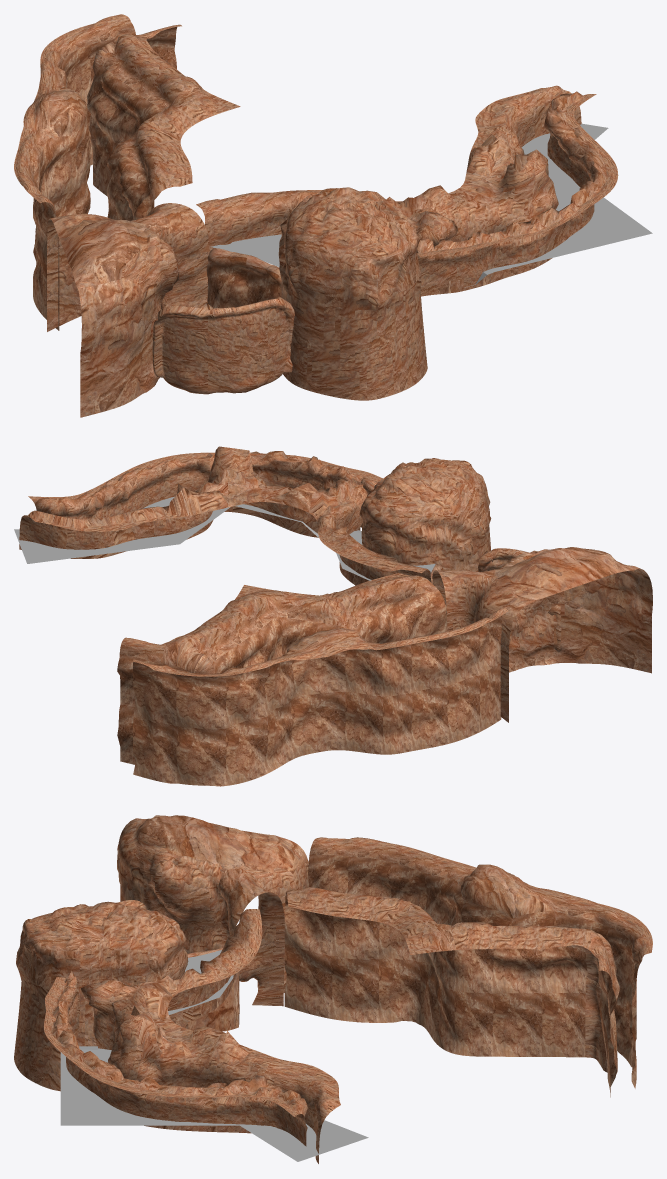
Rendered from env_level01_chasmV2.fbx.
3 views of the same model, one above another, from view 1: azimuth 30°, elevation 25°; view 2: azimuth 150°, elevation 25°; view 3: azimuth 270°, elevation 25° (orthographic). The views are drawn at different scales.
Visible parts, largest first — view 1: pCube151, pCube154, polySurface4, polySurface5, polySurface6, pCube150, pCube152, pCube147, pCube153, pCube149; view 2: polySurface6, pCube154, polySurface5, polySurface4, pCube151, pCube150, pCube147, pCube152; view 3: polySurface5, pCube154, polySurface4, polySurface6, pCube151, pCube150, pCube147, pCube153, pCube149.
Boxes of the visible parts, x1=… form: pCube151: x1=278, y1=187, x2=427, y2=400; pCube154: x1=47, y1=203, x2=209, y2=417; polySurface4: x1=196, y1=85, x2=581, y2=251; polySurface5: x1=87, y1=24, x2=240, y2=221; polySurface6: x1=14, y1=14, x2=135, y2=330; pCube150: x1=416, y1=91, x2=618, y2=296; pCube152: x1=152, y1=296, x2=294, y2=394; pCube147: x1=464, y1=123, x2=652, y2=287; pCube153: x1=206, y1=248, x2=281, y2=308; pCube149: x1=211, y1=234, x2=281, y2=266; polySurface6: x1=133, y1=607, x2=508, y2=786; pCube154: x1=432, y1=547, x2=652, y2=722; polySurface5: x1=117, y1=573, x2=447, y2=764; polySurface4: x1=19, y1=446, x2=431, y2=585; pCube151: x1=359, y1=458, x2=491, y2=571; pCube150: x1=28, y1=451, x2=382, y2=527; pCube147: x1=14, y1=496, x2=318, y2=563; pCube152: x1=476, y1=548, x2=561, y2=652; polySurface5: x1=284, y1=887, x2=619, y2=1097; pCube154: x1=117, y1=815, x2=308, y2=1006; polySurface4: x1=80, y1=909, x2=340, y2=1163; polySurface6: x1=308, y1=837, x2=652, y2=1088; pCube151: x1=14, y1=901, x2=188, y2=1091; pCube150: x1=44, y1=970, x2=308, y2=1146; pCube147: x1=60, y1=1046, x2=368, y2=1161; pCube153: x1=187, y1=947, x2=240, y2=1031; pCube149: x1=168, y1=950, x2=233, y2=1014.
Size of the model in its own units: 20115 by 4936 by 18104.
